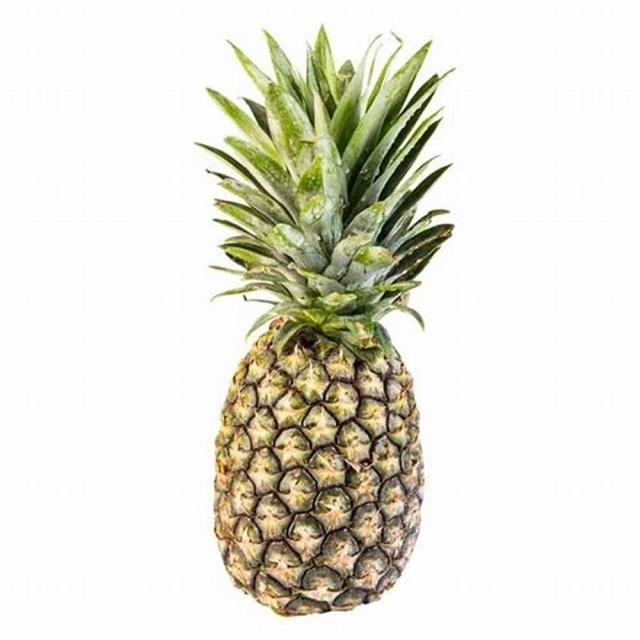Pineapple: (192, 24, 465, 617)
